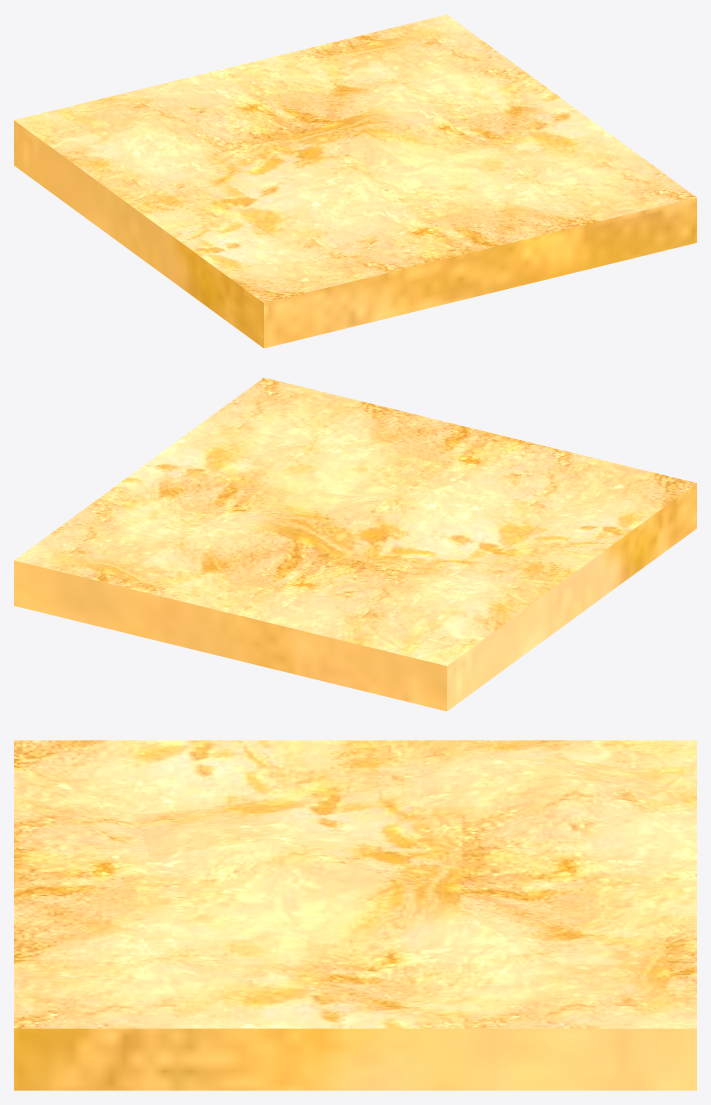
Rendered from lava.glb.
3 renders of one model, top to bottom at view 1: azimuth 30°, elevation 25°; view 2: azimuth 150°, elevation 25°; view 3: azimuth 270°, elevation 25°, orthographic. The views are drawn at different scales.
Parts seen in each view (by area): view 1: Cube; view 2: Cube; view 3: Cube.
Boxes of the visible parts, x1,y1,x2,y2 form: Cube: (14, 14, 696, 348); Cube: (14, 377, 696, 711); Cube: (14, 740, 696, 1090).
Bounding box in the file's own units: 2 × 0.2667 × 2.
1 material, 1 textured.
